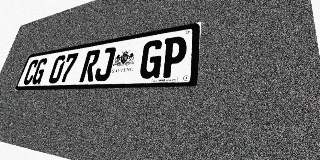0: (47, 55, 67, 84)
7: (58, 53, 79, 83)
C: (22, 59, 40, 85)
G: (138, 39, 164, 79), (30, 58, 49, 84)
J: (93, 47, 116, 81)
P: (160, 35, 188, 78)
R: (79, 49, 101, 82)
